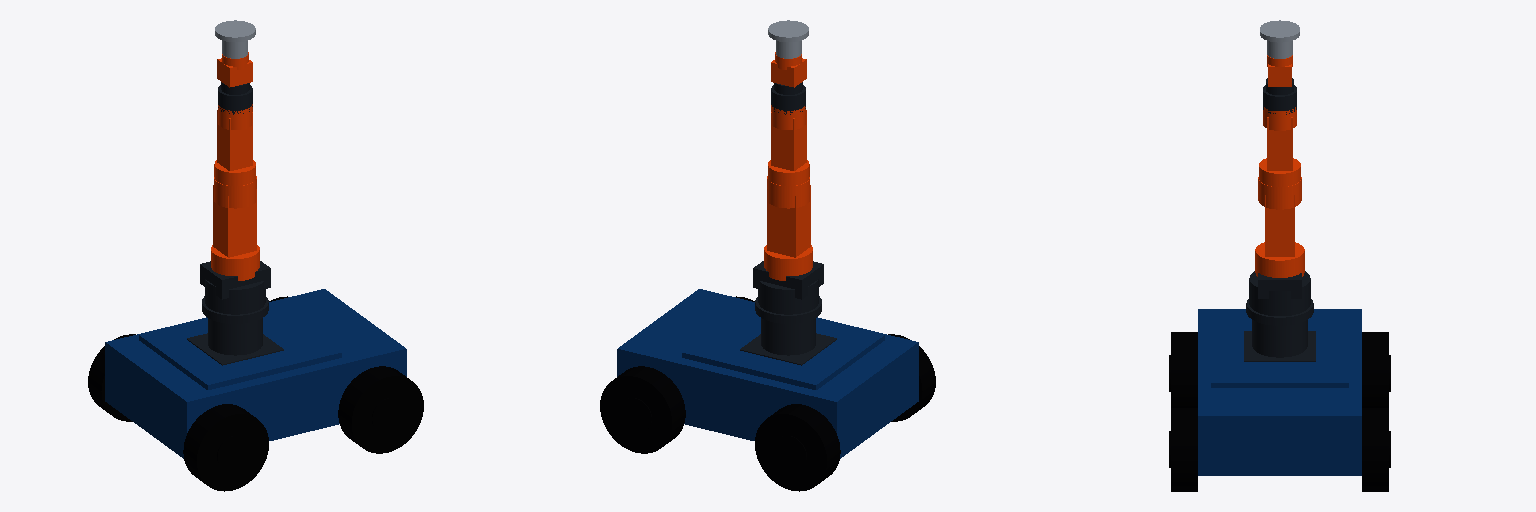
robot.urdf — mobile_manipulator:
<?xml version="1.0"?>
<!-- cadpy:sourcePath=mobile_manipulator.py -->
<!-- cadpy:sourceHash=ca7b2f70861f469ab7b92d059dcf7700a1e1f2588e8770dff9d7a7f4b5304ed9 -->
<robot name="mobile_manipulator">
  <material name="chassis_blue">
    <color rgba="0.055 0.22 0.42 1" />
  </material>
  <material name="tire_black">
    <color rgba="0.025 0.025 0.03 1" />
  </material>
  <material name="arm_orange">
    <color rgba="0.9 0.28 0.04 1" />
  </material>
  <material name="joint_dark">
    <color rgba="0.12 0.14 0.17 1" />
  </material>
  <material name="flange_silver">
    <color rgba="0.55 0.58 0.62 1" />
  </material>
  <link name="base_footprint" />
  <link name="base_link">
    <inertial>
      <origin xyz="0 0 0" rpy="0 0 0" />
      <mass value="55" />
      <inertia ixx="1.60829166667" ixy="0" ixz="0" iyy="3.53329166667" iyz="0" izz="4.69791666667" />
    </inertial>
    <visual name="base_link_visual">
      <origin xyz="0 0 0" rpy="0 0 0" />
      <geometry>
        <mesh filename="package://meshes/visual/base_link.stl" scale="0.001 0.001 0.001" />
      </geometry>
      <material name="chassis_blue" />
    </visual>
    <collision name="base_chassis_collision">
      <origin xyz="0 0 0" rpy="0 0 0" />
      <geometry>
        <box size="0.85 0.59 0.22" />
      </geometry>
    </collision>
  </link>
  <joint name="base_footprint_joint" type="fixed">
    <parent link="base_footprint" />
    <child link="base_link" />
    <origin xyz="0 0 0.21" rpy="0 0 0" />
  </joint>
  <link name="front_left_wheel_link">
    <inertial>
      <origin xyz="0 0 0" rpy="0 0 0" />
      <mass value="4" />
      <inertia ixx="0.0223" ixy="0" ixz="0" iyy="0.0392" iyz="0" izz="0.0223" />
    </inertial>
    <visual name="wheel_link_visual">
      <origin xyz="0 0 0" rpy="0 0 0" />
      <geometry>
        <mesh filename="package://meshes/visual/wheel_link.stl" scale="0.001 0.001 0.001" />
      </geometry>
      <material name="tire_black" />
    </visual>
    <collision name="front_left_wheel_collision">
      <origin xyz="0 0 0" rpy="1.57079632679 0 0" />
      <geometry>
        <cylinder radius="0.14" length="0.09" />
      </geometry>
    </collision>
  </link>
  <joint name="front_left_wheel_joint" type="continuous">
    <parent link="base_link" />
    <child link="front_left_wheel_link" />
    <origin xyz="0.3 0.32 -0.07" rpy="0 0 0" />
    <axis xyz="0 1 0" />
    <limit effort="85" velocity="18" />
    <dynamics damping="0.35" friction="0.08" />
  </joint>
  <link name="front_right_wheel_link">
    <inertial>
      <origin xyz="0 0 0" rpy="0 0 0" />
      <mass value="4" />
      <inertia ixx="0.0223" ixy="0" ixz="0" iyy="0.0392" iyz="0" izz="0.0223" />
    </inertial>
    <visual name="wheel_link_visual">
      <origin xyz="0 0 0" rpy="0 0 0" />
      <geometry>
        <mesh filename="package://meshes/visual/wheel_link.stl" scale="0.001 0.001 0.001" />
      </geometry>
      <material name="tire_black" />
    </visual>
    <collision name="front_right_wheel_collision">
      <origin xyz="0 0 0" rpy="1.57079632679 0 0" />
      <geometry>
        <cylinder radius="0.14" length="0.09" />
      </geometry>
    </collision>
  </link>
  <joint name="front_right_wheel_joint" type="continuous">
    <parent link="base_link" />
    <child link="front_right_wheel_link" />
    <origin xyz="0.3 -0.32 -0.07" rpy="0 0 0" />
    <axis xyz="0 1 0" />
    <limit effort="85" velocity="18" />
    <dynamics damping="0.35" friction="0.08" />
  </joint>
  <link name="rear_left_wheel_link">
    <inertial>
      <origin xyz="0 0 0" rpy="0 0 0" />
      <mass value="4" />
      <inertia ixx="0.0223" ixy="0" ixz="0" iyy="0.0392" iyz="0" izz="0.0223" />
    </inertial>
    <visual name="wheel_link_visual">
      <origin xyz="0 0 0" rpy="0 0 0" />
      <geometry>
        <mesh filename="package://meshes/visual/wheel_link.stl" scale="0.001 0.001 0.001" />
      </geometry>
      <material name="tire_black" />
    </visual>
    <collision name="rear_left_wheel_collision">
      <origin xyz="0 0 0" rpy="1.57079632679 0 0" />
      <geometry>
        <cylinder radius="0.14" length="0.09" />
      </geometry>
    </collision>
  </link>
  <joint name="rear_left_wheel_joint" type="continuous">
    <parent link="base_link" />
    <child link="rear_left_wheel_link" />
    <origin xyz="-0.3 0.32 -0.07" rpy="0 0 0" />
    <axis xyz="0 1 0" />
    <limit effort="85" velocity="18" />
    <dynamics damping="0.35" friction="0.08" />
  </joint>
  <link name="rear_right_wheel_link">
    <inertial>
      <origin xyz="0 0 0" rpy="0 0 0" />
      <mass value="4" />
      <inertia ixx="0.0223" ixy="0" ixz="0" iyy="0.0392" iyz="0" izz="0.0223" />
    </inertial>
    <visual name="wheel_link_visual">
      <origin xyz="0 0 0" rpy="0 0 0" />
      <geometry>
        <mesh filename="package://meshes/visual/wheel_link.stl" scale="0.001 0.001 0.001" />
      </geometry>
      <material name="tire_black" />
    </visual>
    <collision name="rear_right_wheel_collision">
      <origin xyz="0 0 0" rpy="1.57079632679 0 0" />
      <geometry>
        <cylinder radius="0.14" length="0.09" />
      </geometry>
    </collision>
  </link>
  <joint name="rear_right_wheel_joint" type="continuous">
    <parent link="base_link" />
    <child link="rear_right_wheel_link" />
    <origin xyz="-0.3 -0.32 -0.07" rpy="0 0 0" />
    <axis xyz="0 1 0" />
    <limit effort="85" velocity="18" />
    <dynamics damping="0.35" friction="0.08" />
  </joint>
  <link name="arm_mount_link">
    <inertial>
      <origin xyz="0 0 0.09" rpy="0 0 0" />
      <mass value="10" />
      <inertia ixx="0.052" ixy="0" ixz="0" iyy="0.052" iyz="0" izz="0.05" />
    </inertial>
    <visual name="arm_mount_link_visual">
      <origin xyz="0 0 0" rpy="0 0 0" />
      <geometry>
        <mesh filename="package://meshes/visual/arm_mount_link.stl" scale="0.001 0.001 0.001" />
      </geometry>
      <material name="joint_dark" />
    </visual>
    <collision name="arm_mount_collision">
      <origin xyz="0 0 0.09" rpy="0 0 0" />
      <geometry>
        <cylinder radius="0.112" length="0.18" />
      </geometry>
    </collision>
  </link>
  <joint name="arm_mount_joint" type="fixed">
    <parent link="base_link" />
    <child link="arm_mount_link" />
    <origin xyz="-0.08 0 0.11" rpy="0 0 0" />
  </joint>
  <link name="shoulder_pan_link">
    <inertial>
      <origin xyz="0 0 0.06" rpy="0 0 0" />
      <mass value="7" />
      <inertia ixx="0.0259" ixy="0" ixz="0" iyy="0.0259" iyz="0" izz="0.035" />
    </inertial>
    <visual name="shoulder_pan_link_visual">
      <origin xyz="0 0 0" rpy="0 0 0" />
      <geometry>
        <mesh filename="package://meshes/visual/shoulder_pan_link.stl" scale="0.001 0.001 0.001" />
      </geometry>
      <material name="joint_dark" />
    </visual>
    <collision name="shoulder_pan_collision">
      <origin xyz="0 0 0.06" rpy="0 0 0" />
      <geometry>
        <cylinder radius="0.105" length="0.12" />
      </geometry>
    </collision>
  </link>
  <joint name="shoulder_pan_joint" type="revolute">
    <parent link="arm_mount_link" />
    <child link="shoulder_pan_link" />
    <origin xyz="0 0 0.18" rpy="0 0 0" />
    <axis xyz="0 0 1" />
    <limit effort="120" velocity="1.8" lower="-2.96705972839" upper="2.96705972839" />
    <dynamics damping="2" friction="0.3" />
  </joint>
  <link name="upper_arm_link">
    <inertial>
      <origin xyz="0 0 0.16" rpy="0 0 0" />
      <mass value="8" />
      <inertia ixx="0.0749333333333" ixy="0" ixz="0" iyy="0.0766293333333" iyz="0" izz="0.0150293333333" />
    </inertial>
    <visual name="upper_arm_link_visual">
      <origin xyz="0 0 0" rpy="0 0 0" />
      <geometry>
        <mesh filename="package://meshes/visual/upper_arm_link.stl" scale="0.001 0.001 0.001" />
      </geometry>
      <material name="arm_orange" />
    </visual>
    <collision name="upper_arm_collision">
      <origin xyz="0 0 0.16" rpy="0 0 0" />
      <geometry>
        <box size="0.12 0.11 0.32" />
      </geometry>
    </collision>
  </link>
  <joint name="shoulder_lift_joint" type="revolute">
    <parent link="shoulder_pan_link" />
    <child link="upper_arm_link" />
    <origin xyz="0 0 0.12" rpy="0 0 0" />
    <axis xyz="0 1 0" />
    <limit effort="160" velocity="1.6" lower="-1.74532925199" upper="1.74532925199" />
    <dynamics damping="2.2" friction="0.25" />
  </joint>
  <link name="forearm_link">
    <inertial>
      <origin xyz="0 0 0.14" rpy="0 0 0" />
      <mass value="5" />
      <inertia ixx="0.0356066666667" ixy="0" ixz="0" iyy="0.0361933333333" iyz="0" izz="0.00646666666667" />
    </inertial>
    <visual name="forearm_link_visual">
      <origin xyz="0 0 0" rpy="0 0 0" />
      <geometry>
        <mesh filename="package://meshes/visual/forearm_link.stl" scale="0.001 0.001 0.001" />
      </geometry>
      <material name="arm_orange" />
    </visual>
    <collision name="forearm_collision">
      <origin xyz="0 0 0.14" rpy="0 0 0" />
      <geometry>
        <box size="0.1 0.092 0.28" />
      </geometry>
    </collision>
  </link>
  <joint name="elbow_joint" type="revolute">
    <parent link="upper_arm_link" />
    <child link="forearm_link" />
    <origin xyz="0 0 0.32" rpy="0 0 0" />
    <axis xyz="0 1 0" />
    <limit effort="90" velocity="1.8" lower="-2.35619449019" upper="2.35619449019" />
    <dynamics damping="1.8" friction="0.2" />
  </joint>
  <link name="wrist_1_link">
    <inertial>
      <origin xyz="0 0 0.05" rpy="0 0 0" />
      <mass value="2.5" />
      <inertia ixx="0.00418583333333" ixy="0" ixz="0" iyy="0.00418583333333" iyz="0" izz="0.004205" />
    </inertial>
    <visual name="wrist_1_link_visual">
      <origin xyz="0 0 0" rpy="0 0 0" />
      <geometry>
        <mesh filename="package://meshes/visual/wrist_1_link.stl" scale="0.001 0.001 0.001" />
      </geometry>
      <material name="joint_dark" />
    </visual>
    <collision name="wrist_1_collision">
      <origin xyz="0 0 0.05" rpy="0 0 0" />
      <geometry>
        <cylinder radius="0.06" length="0.1" />
      </geometry>
    </collision>
  </link>
  <joint name="wrist_1_joint" type="revolute">
    <parent link="forearm_link" />
    <child link="wrist_1_link" />
    <origin xyz="0 0 0.28" rpy="0 0 0" />
    <axis xyz="0 0 1" />
    <limit effort="40" velocity="2.5" lower="-3.14159265359" upper="3.14159265359" />
    <dynamics damping="0.9" friction="0.12" />
  </joint>
  <link name="wrist_2_link">
    <inertial>
      <origin xyz="0 0 0.05" rpy="0 0 0" />
      <mass value="2" />
      <inertia ixx="0.00278733333333" ixy="0" ixz="0" iyy="0.00307733333333" iyz="0" izz="0.00253133333333" />
    </inertial>
    <visual name="wrist_2_link_visual">
      <origin xyz="0 0 0" rpy="0 0 0" />
      <geometry>
        <mesh filename="package://meshes/visual/wrist_2_link.stl" scale="0.001 0.001 0.001" />
      </geometry>
      <material name="arm_orange" />
    </visual>
    <collision name="wrist_2_collision">
      <origin xyz="0 0 0.05" rpy="0 0 0" />
      <geometry>
        <cylinder radius="0.052" length="0.1" />
      </geometry>
    </collision>
  </link>
  <joint name="wrist_2_joint" type="revolute">
    <parent link="wrist_1_link" />
    <child link="wrist_2_link" />
    <origin xyz="0 0 0.1" rpy="0 0 0" />
    <axis xyz="0 1 0" />
    <limit effort="30" velocity="2.5" lower="-2.09439510239" upper="2.09439510239" />
    <dynamics damping="0.8" friction="0.1" />
  </joint>
  <link name="wrist_3_link">
    <inertial>
      <origin xyz="0 0 0.045" rpy="0 0 0" />
      <mass value="1.5" />
      <inertia ixx="0.00195" ixy="0" ixz="0" iyy="0.00195" iyz="0" izz="0.001875" />
    </inertial>
    <visual name="wrist_3_link_visual">
      <origin xyz="0 0 0" rpy="0 0 0" />
      <geometry>
        <mesh filename="package://meshes/visual/wrist_3_link.stl" scale="0.001 0.001 0.001" />
      </geometry>
      <material name="flange_silver" />
    </visual>
    <collision name="wrist_3_collision">
      <origin xyz="0 0 0.045" rpy="0 0 0" />
      <geometry>
        <cylinder radius="0.055" length="0.09" />
      </geometry>
    </collision>
  </link>
  <joint name="wrist_3_joint" type="revolute">
    <parent link="wrist_2_link" />
    <child link="wrist_3_link" />
    <origin xyz="0 0 0.1" rpy="0 0 0" />
    <axis xyz="0 0 1" />
    <limit effort="20" velocity="3.2" lower="-6.28318530718" upper="6.28318530718" />
    <dynamics damping="0.6" friction="0.08" />
  </joint>
  <link name="tool0" />
  <joint name="tool0_joint" type="fixed">
    <parent link="wrist_3_link" />
    <child link="tool0" />
    <origin xyz="0 0 0.09" rpy="0 0 0" />
  </joint>
  <link name="top_sensor_mount_link" />
  <joint name="top_sensor_mount_joint" type="fixed">
    <parent link="base_link" />
    <child link="top_sensor_mount_link" />
    <origin xyz="0.24 0 0.13" rpy="0 0 0" />
  </joint>
  <link name="livox_frame" />
  <joint name="livox_joint" type="fixed">
    <parent link="top_sensor_mount_link" />
    <child link="livox_frame" />
    <origin xyz="0 0 0.047" rpy="0 0 0" />
  </joint>
  <link name="front_sensor_mount_link" />
  <joint name="front_sensor_mount_joint" type="fixed">
    <parent link="base_link" />
    <child link="front_sensor_mount_link" />
    <origin xyz="0.44 0 0.02" rpy="0 0 0" />
  </joint>
  <link name="tool_sensor_mount_link" />
  <joint name="tool_sensor_mount_joint" type="fixed">
    <parent link="tool0" />
    <child link="tool_sensor_mount_link" />
    <origin xyz="0 0 0" rpy="0 0 0" />
  </joint>
</robot>

--- Facts derived from the render (not from the file) ---
The picture shows the robot from 3 angles, left to right: view 1: azimuth 30°, elevation 25°; view 2: azimuth 150°, elevation 25°; view 3: azimuth 270°, elevation 25°; orthographic projection.
Robot: mobile_manipulator — 18 links, 17 joints (6 revolute, 4 continuous, 7 fixed); root link base_footprint; default pose: every joint at zero.
Visible links, largest first — view 1: base_link, front_right_wheel_link, rear_right_wheel_link, upper_arm_link, arm_mount_link, forearm_link, shoulder_pan_link, wrist_3_link, rear_left_wheel_link, wrist_2_link, wrist_1_link; view 2: base_link, front_left_wheel_link, rear_left_wheel_link, upper_arm_link, arm_mount_link, forearm_link, shoulder_pan_link, wrist_3_link, rear_right_wheel_link, wrist_2_link, wrist_1_link; view 3: base_link, upper_arm_link, arm_mount_link, forearm_link, front_left_wheel_link, front_right_wheel_link, shoulder_pan_link, rear_left_wheel_link, rear_right_wheel_link, wrist_3_link, wrist_1_link, wrist_2_link.
Link boxes in pixels (box(x1,y1,x2,y2)): base_link: box(105, 289, 406, 458); front_right_wheel_link: box(338, 366, 423, 453); rear_right_wheel_link: box(183, 404, 268, 491); upper_arm_link: box(211, 176, 259, 280); arm_mount_link: box(187, 296, 283, 365); forearm_link: box(214, 104, 255, 185); shoulder_pan_link: box(200, 261, 270, 314); wrist_3_link: box(215, 20, 255, 58); rear_left_wheel_link: box(88, 334, 135, 421); wrist_2_link: box(217, 52, 252, 87); wrist_1_link: box(218, 82, 252, 114); base_link: box(617, 289, 918, 458); front_left_wheel_link: box(600, 366, 685, 453); rear_left_wheel_link: box(755, 404, 840, 491); upper_arm_link: box(764, 176, 812, 280); arm_mount_link: box(740, 296, 836, 365); forearm_link: box(768, 105, 809, 185); shoulder_pan_link: box(753, 261, 823, 314); wrist_3_link: box(768, 20, 808, 58); rear_right_wheel_link: box(888, 334, 935, 421); wrist_2_link: box(771, 52, 806, 87); wrist_1_link: box(771, 82, 805, 114); base_link: box(1198, 309, 1361, 475); upper_arm_link: box(1255, 177, 1304, 277); arm_mount_link: box(1244, 299, 1315, 361); forearm_link: box(1259, 107, 1300, 186); front_left_wheel_link: box(1362, 408, 1390, 491); front_right_wheel_link: box(1169, 408, 1197, 491); shoulder_pan_link: box(1249, 271, 1310, 315); rear_left_wheel_link: box(1362, 332, 1390, 407); rear_right_wheel_link: box(1169, 332, 1197, 407); wrist_3_link: box(1260, 20, 1299, 58); wrist_1_link: box(1263, 78, 1296, 114); wrist_2_link: box(1267, 55, 1292, 86).
Bounding box of the posed robot: 0.88 × 0.738 × 1.51 m (x, y, z).
Meshes: 9 distinct files referenced, 12 mesh visuals loaded (9 binary STL).
